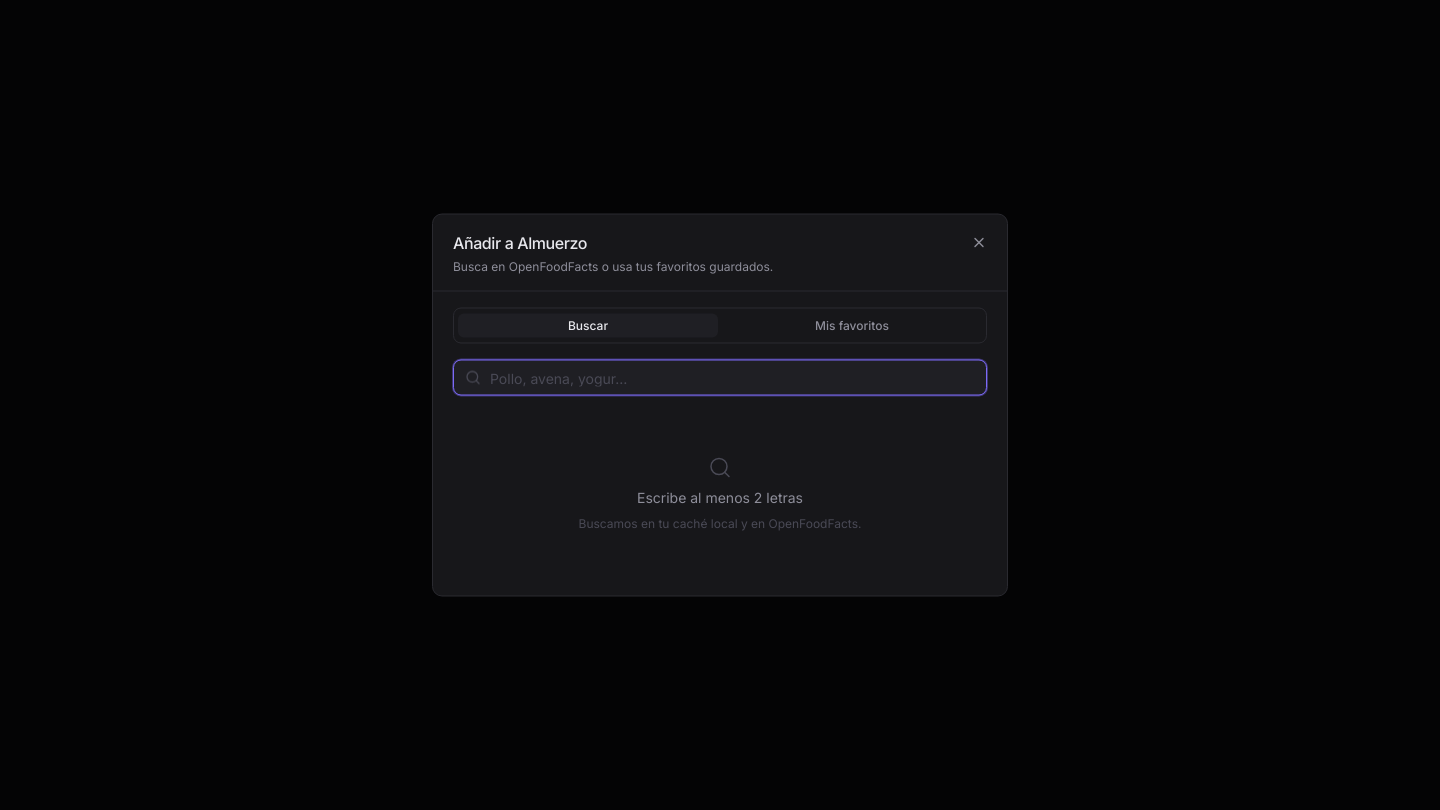
Test case: FoodSearchDialog › al seleccionar un alimento y poner los gramos, el preview de macros es correcto
Type "manzana" into the field named "Buscar alimento" at (720, 378), box [453, 360, 987, 396]
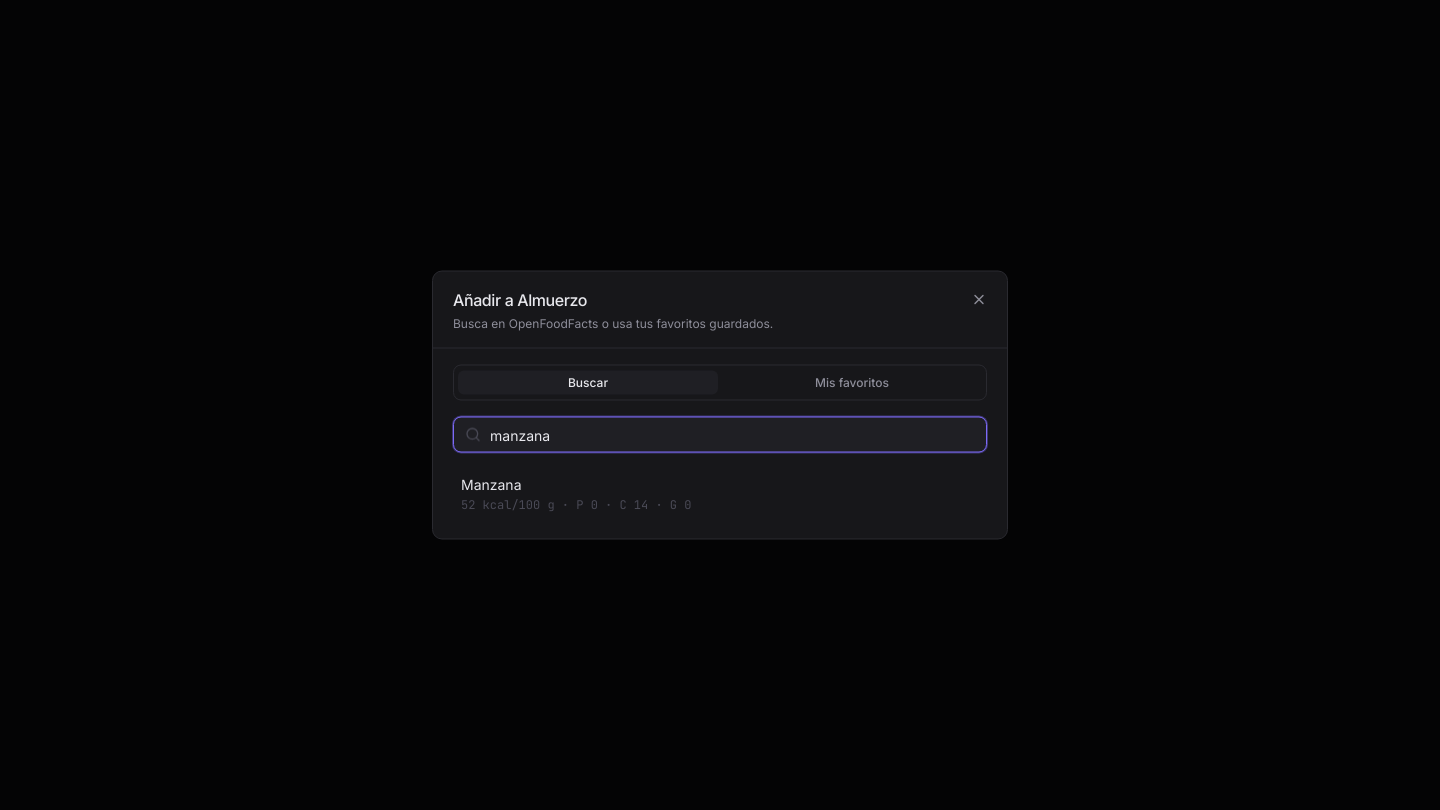
Click the text "Manzana" at (491, 484), box [461, 476, 522, 492]
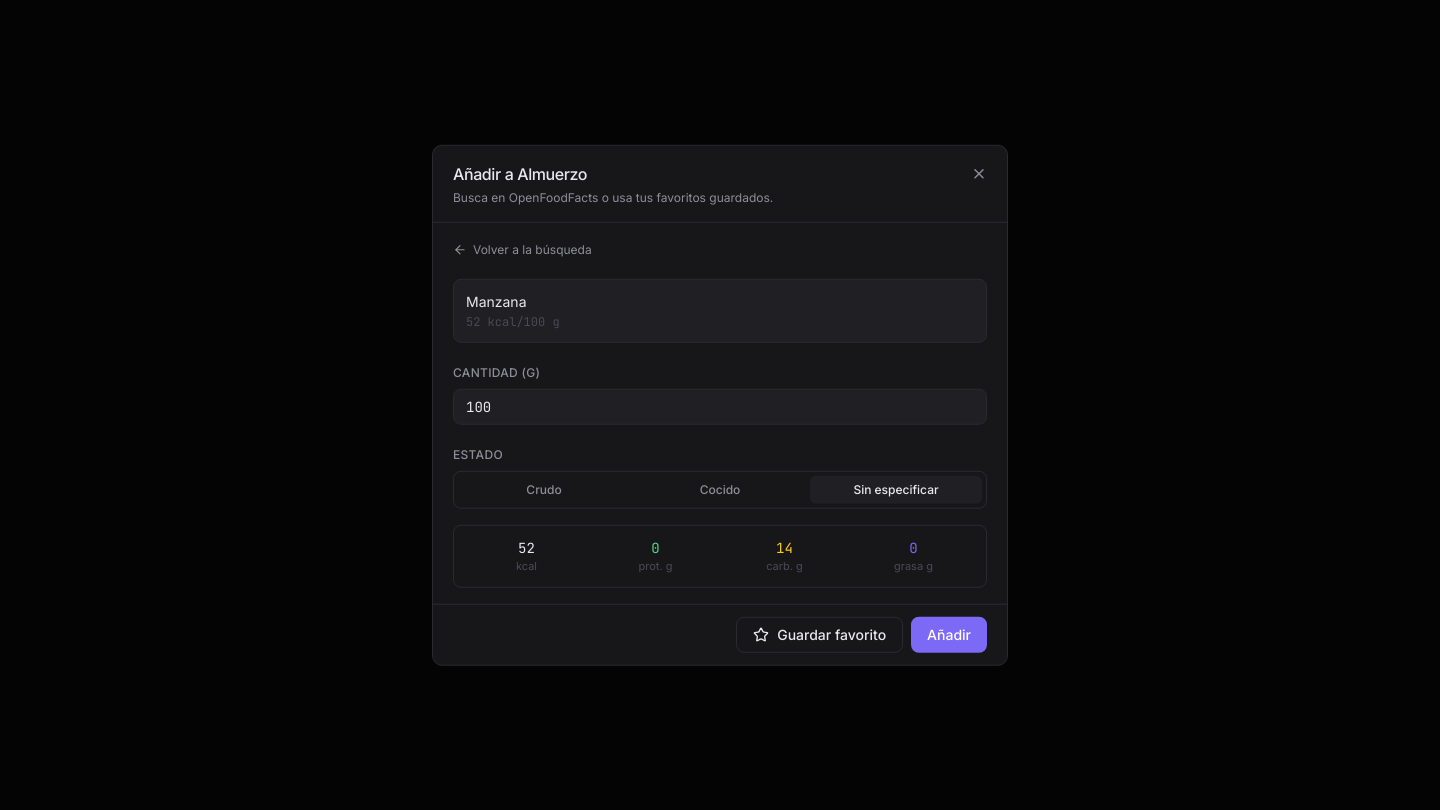
Check: the text "14" is shown, box [776, 539, 793, 557]
Check: the text "52" is shown, box [518, 539, 535, 557]
Clear the field labelled "Cantidad (g)" at (720, 407), box [453, 389, 987, 425]
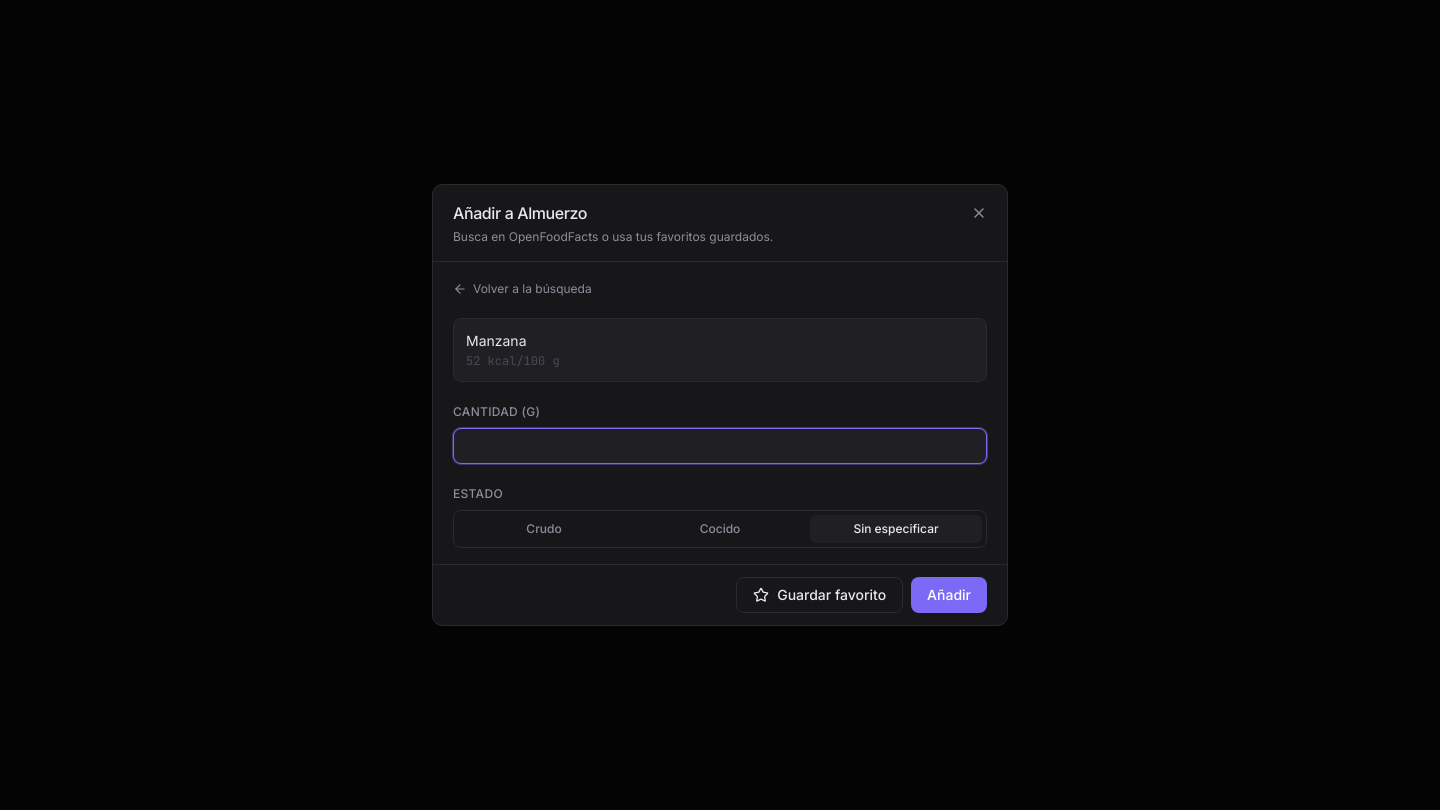
Type "200" into the field labelled "Cantidad (g)" at (720, 446), box [453, 428, 987, 464]
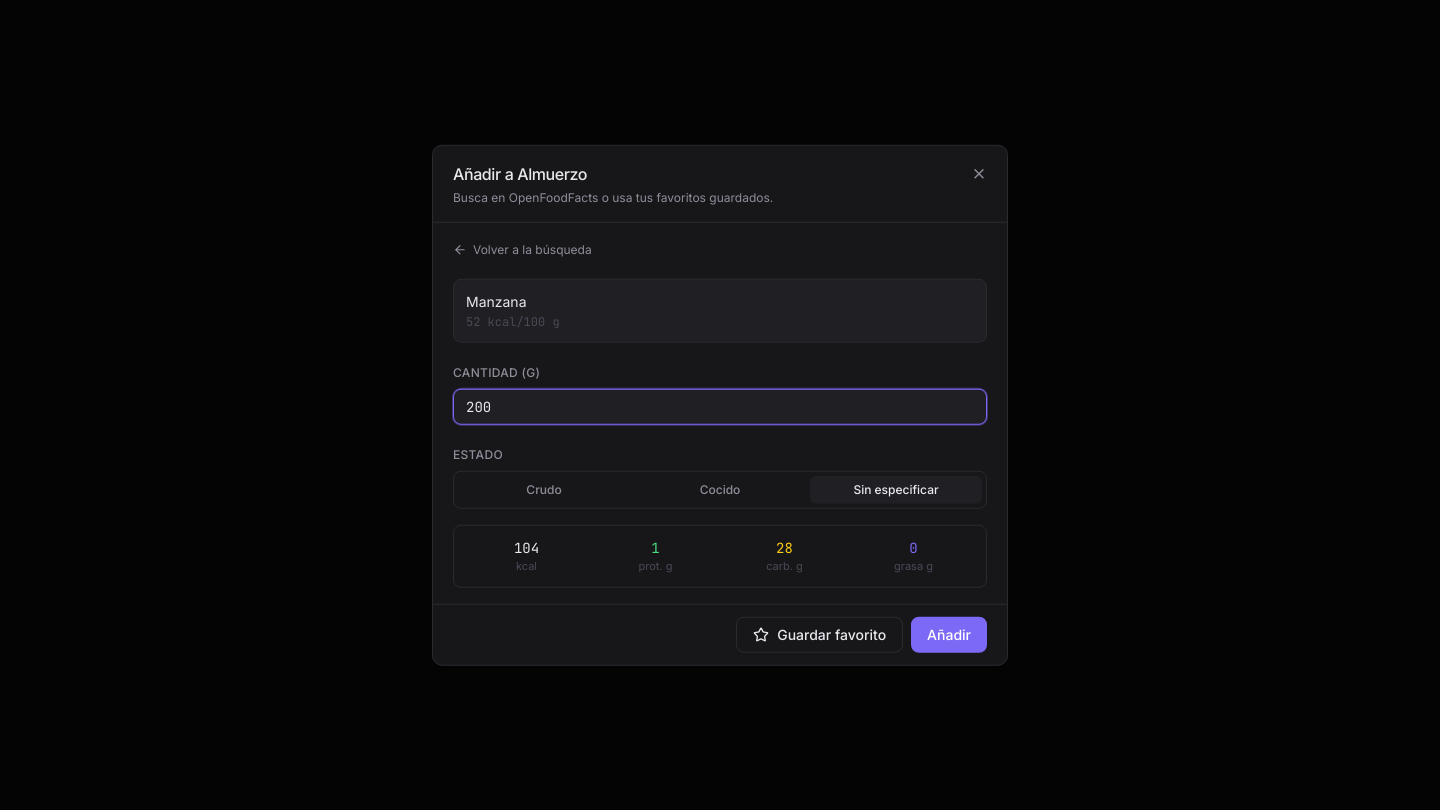
Check: the text "104" is shown, box [514, 539, 539, 557]
Check: the text "28" is shown, box [776, 539, 793, 557]
